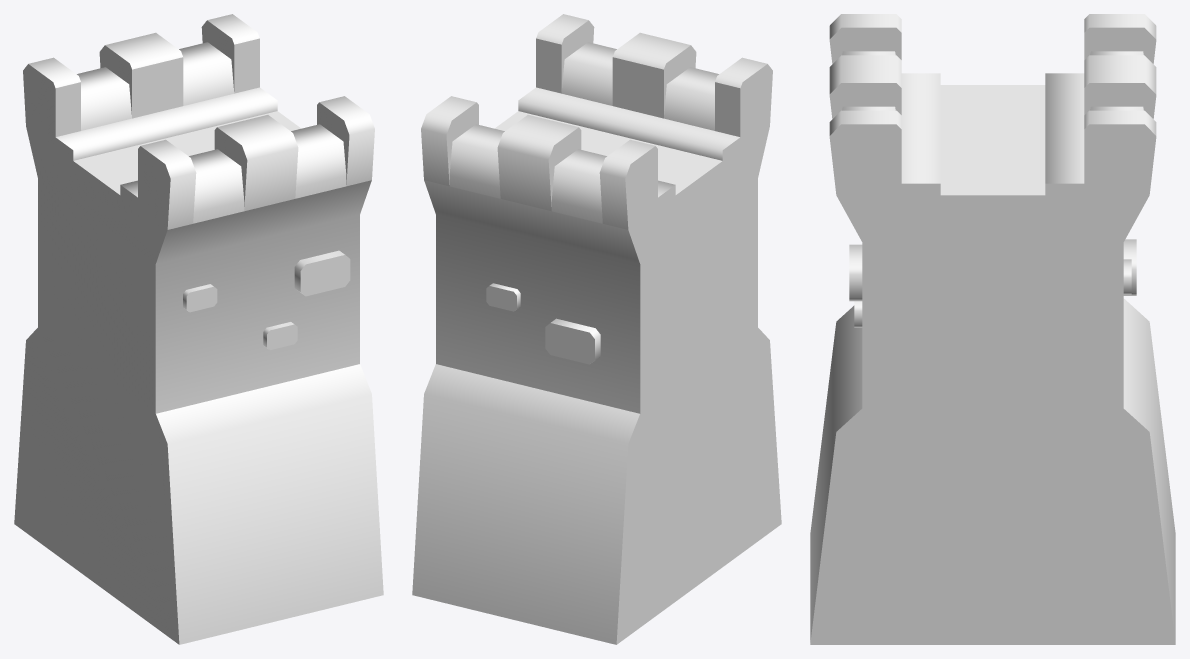
Rendered from castle-wall.glb.
3 views of the same model, side by side, from view 1: azimuth 30°, elevation 25°; view 2: azimuth 150°, elevation 25°; view 3: azimuth 270°, elevation 25° (orthographic). The views are drawn at different scales.
Parts seen in each view (by area): view 1: castle-wall; view 2: castle-wall; view 3: castle-wall.
Part boxes in pixels (box(x1,y1,x2,y2)): castle-wall: box(14, 14, 383, 644); castle-wall: box(412, 14, 781, 644); castle-wall: box(810, 14, 1175, 644).
Bounding box in the file's own units: 2 × 4.4 × 2.8.
Materials: 1 (1 with a texture image).
